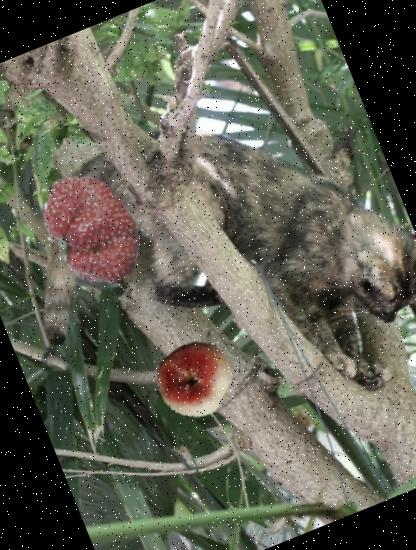Peach: (142, 325, 244, 427)
Strawberry: (11, 152, 166, 307)
